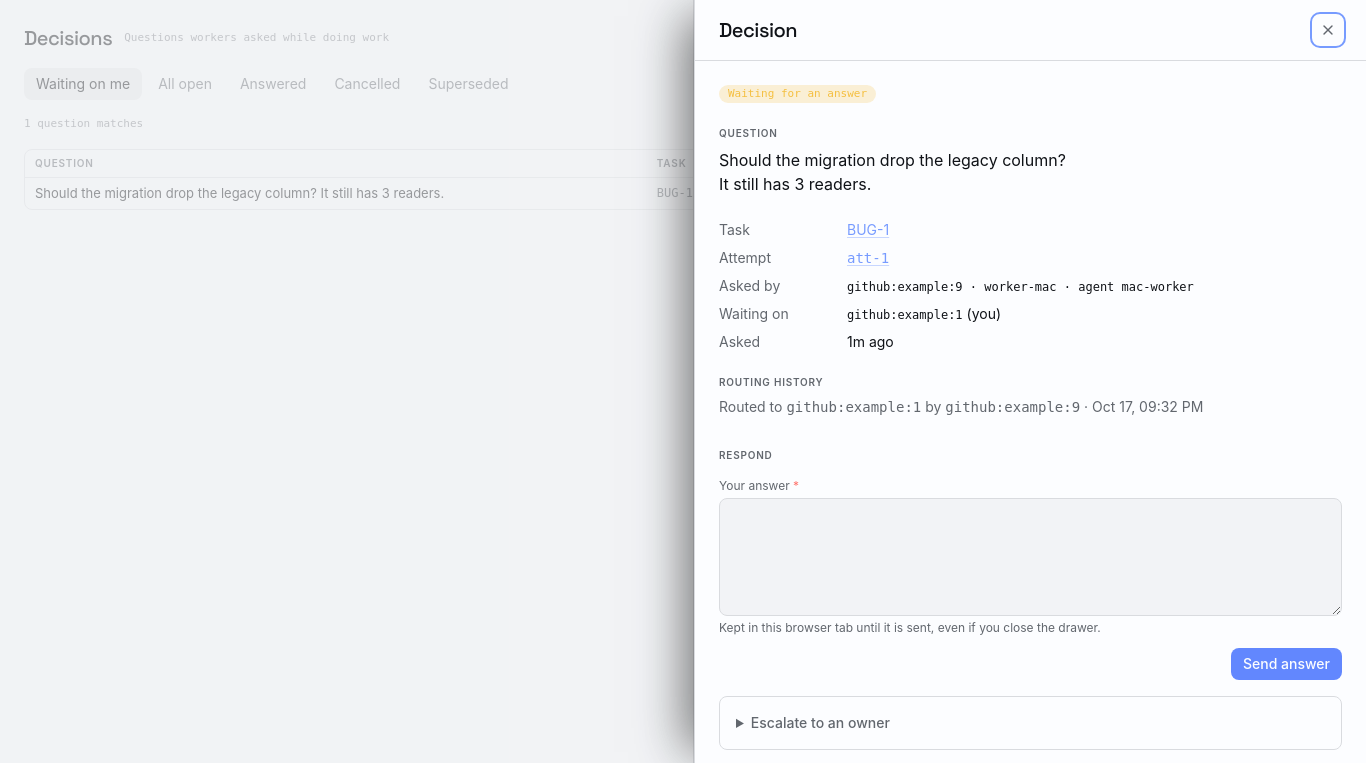
answers with the question's correlation and a matching idempotency key
Expected: the text "It still has 3 readers." is shown, [719, 150, 1066, 194]
Expected: the text "github:example:9 · worker-mac · agent mac-worker" is shown, [847, 280, 1194, 294]
Type "Keep it for one release." into the text box labelled "Your answer *". click: (1030, 557)
box: [719, 498, 1342, 616]
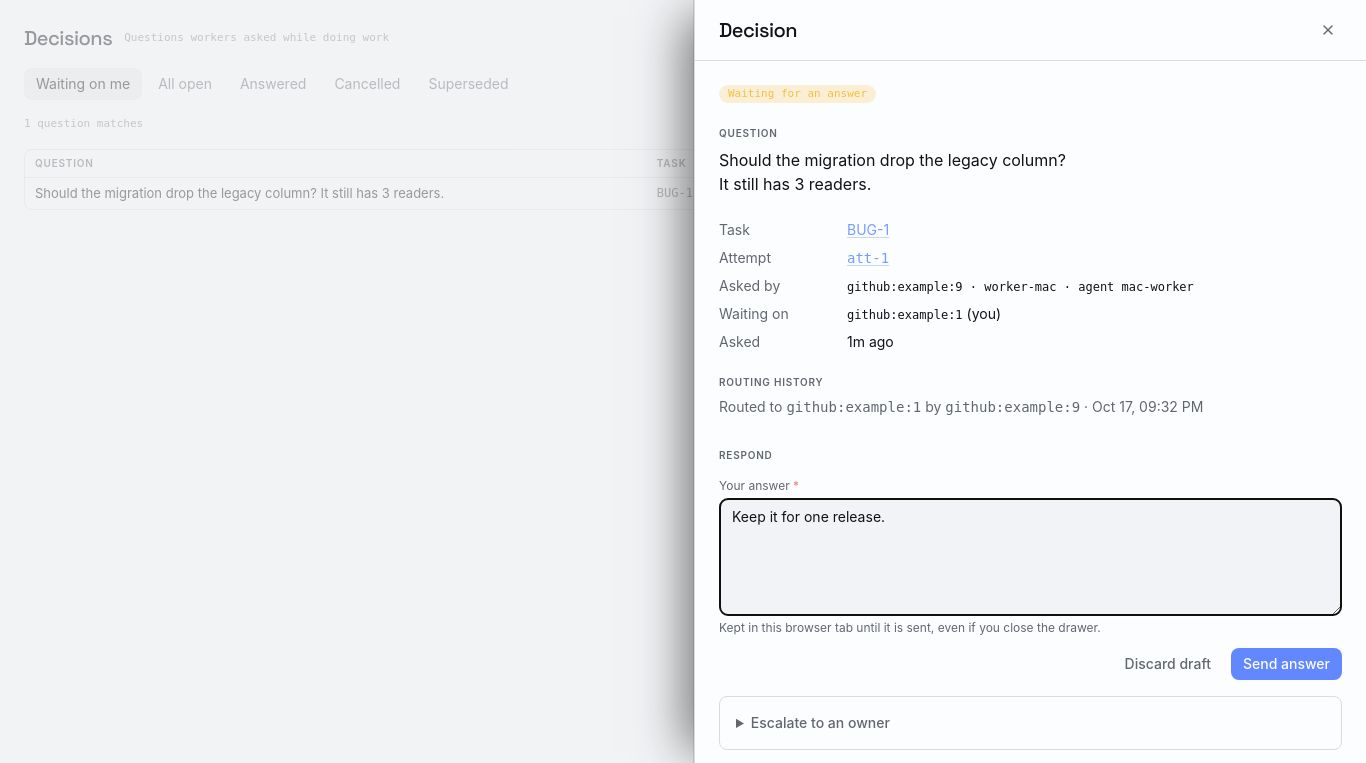
Click the button "Send answer". click: (1286, 664)
box: [1231, 648, 1342, 680]
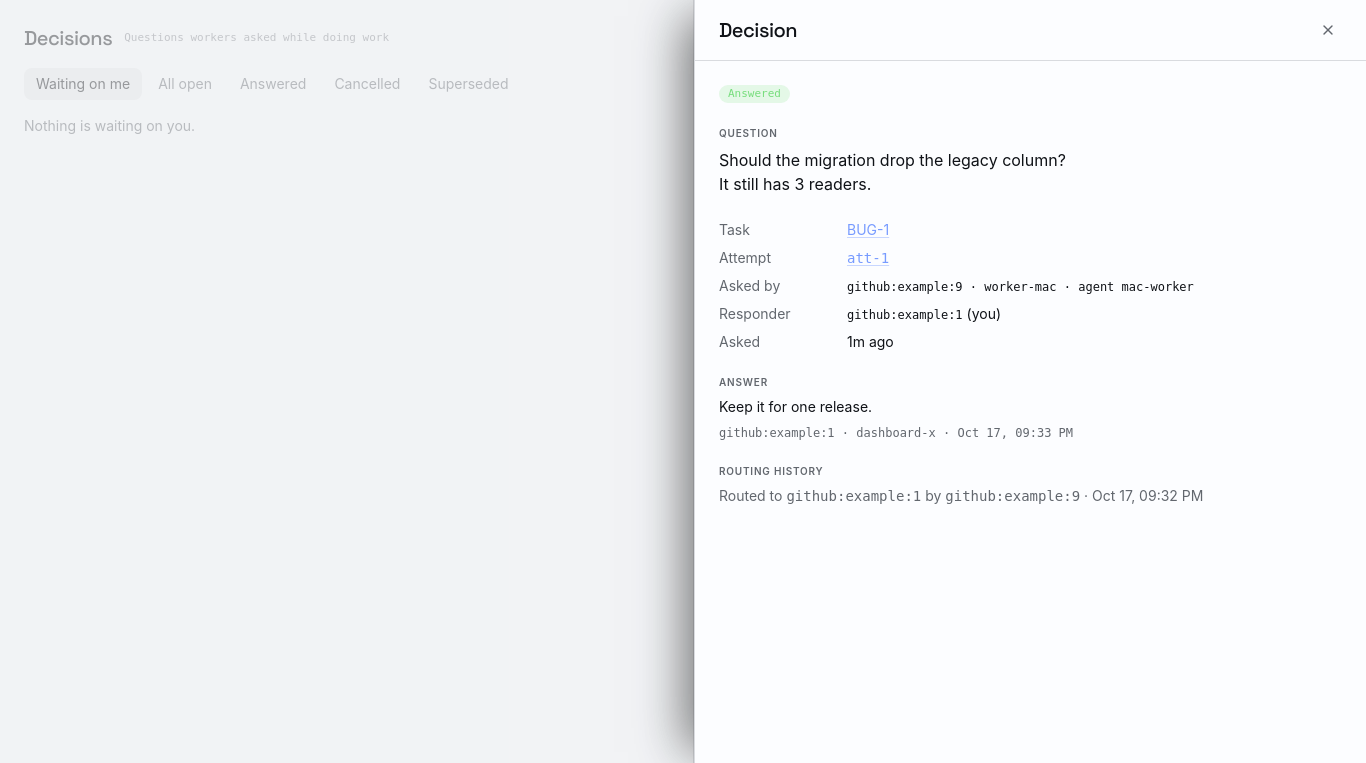
Now the text "Keep it for one release." is shown, box [719, 398, 872, 415]
